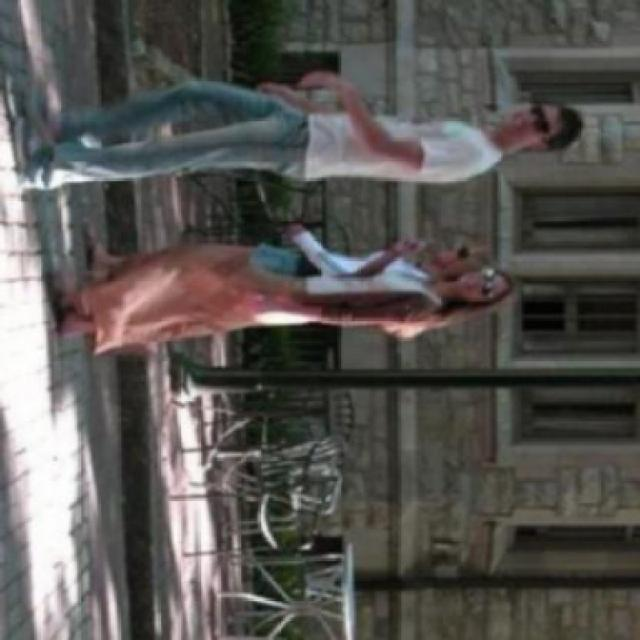Person: (0, 75, 592, 192), (26, 258, 525, 347)
